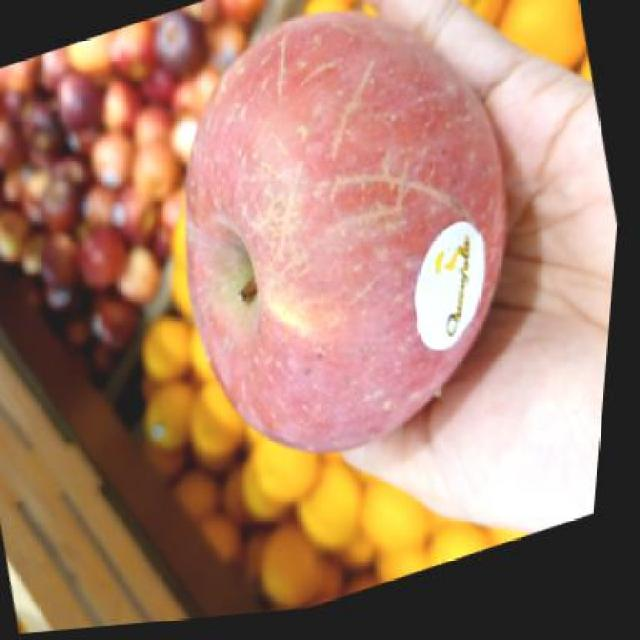Fresh Apple: (184, 28, 510, 438)
